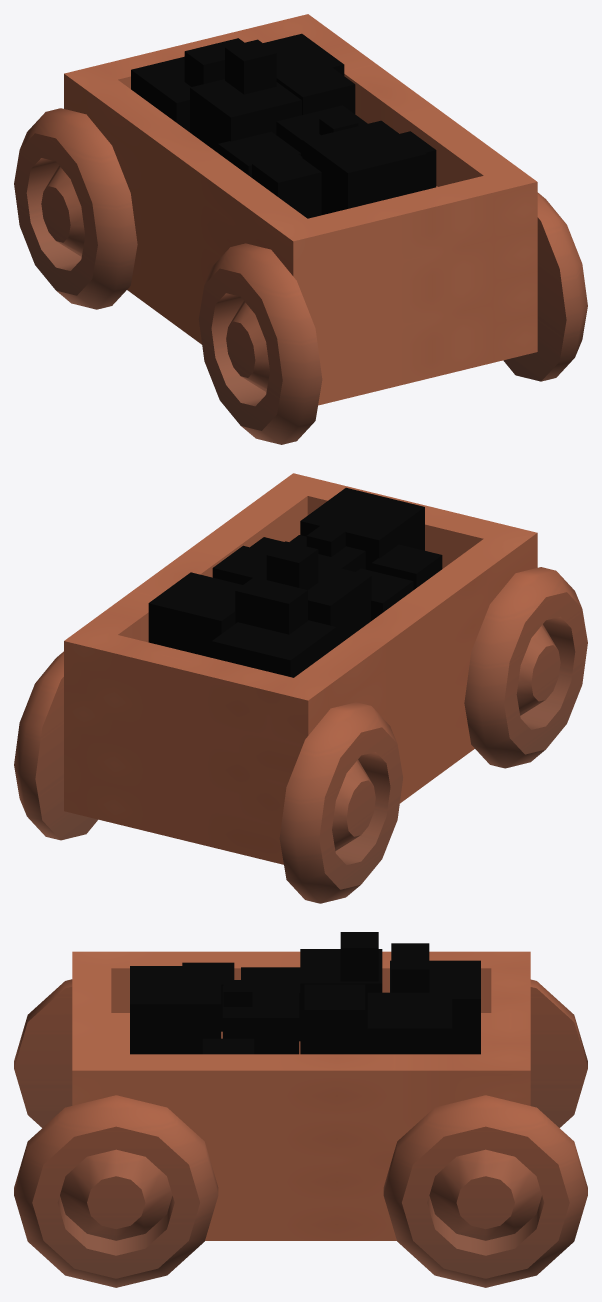
Rendered from enemigo_carro.fbx.
3 renders of one model, top to bottom at view 1: azimuth 30°, elevation 25°; view 2: azimuth 150°, elevation 25°; view 3: azimuth 270°, elevation 25°, orthographic.
Parts seen in each view (by area): view 1: Cube.001, wheelchair, Cube.005; view 2: Cube.001, wheelchair, Cube.005; view 3: wheelchair, Cube.001, Cube.005.
Boxes of the visible parts, x1,y1,x2,y2 form: Cube.001: [64, 14, 537, 405]; wheelchair: [14, 108, 587, 444]; Cube.005: [131, 33, 436, 218]; Cube.001: [64, 473, 537, 864]; wheelchair: [14, 567, 587, 903]; Cube.005: [148, 487, 442, 677]; wheelchair: [14, 979, 587, 1287]; Cube.001: [72, 951, 530, 1240]; Cube.005: [130, 932, 480, 1054].
Bounding box in the file's own units: 77.25 × 65.46 × 126.
1 material, 1 textured.
